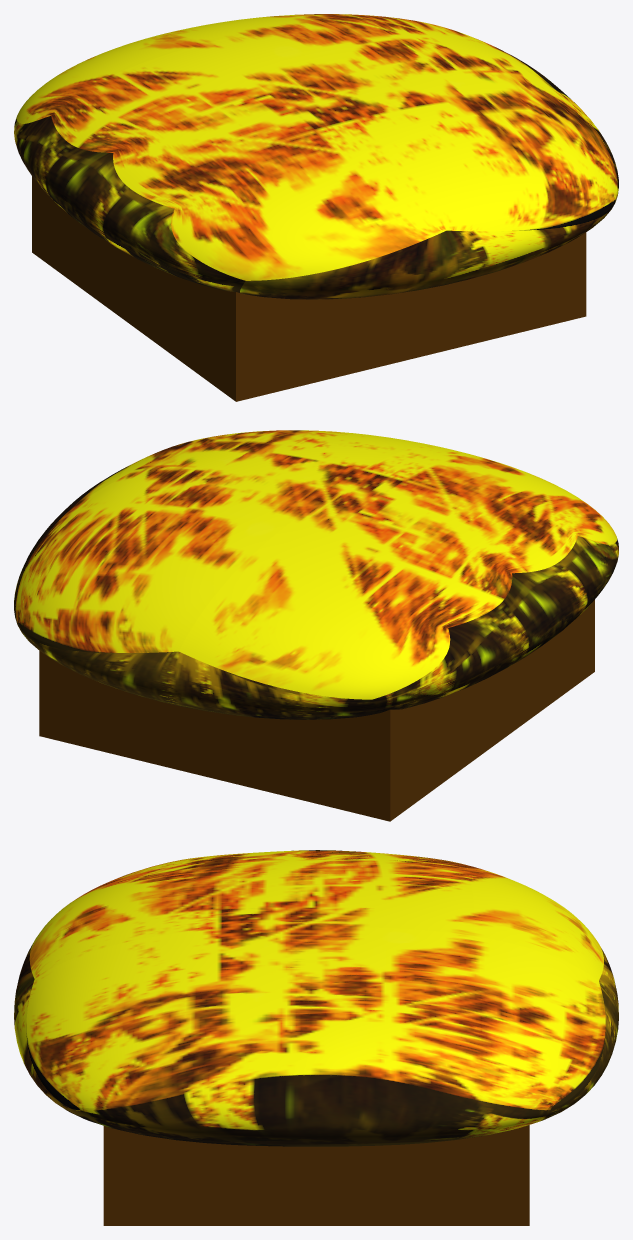
Rendered from AnotherNest.fbx.
The picture shows the model from 3 angles, top to bottom: view 1: azimuth 30°, elevation 25°; view 2: azimuth 150°, elevation 25°; view 3: azimuth 270°, elevation 25°; orthographic projection. The views are drawn at different scales.
Visible parts, largest first — view 1: Base, Nest; view 2: Base, Nest; view 3: Base, Nest.
Boxes of the visible parts, <box> form: Base: <box>14,14,618,299</box>; Nest: <box>32,176,586,401</box>; Base: <box>14,430,618,719</box>; Nest: <box>39,600,594,821</box>; Base: <box>14,850,618,1146</box>; Nest: <box>103,1125,529,1225</box>.
Bounding box in the file's own units: 273 × 108 × 283.
2 materials, 1 textured.
